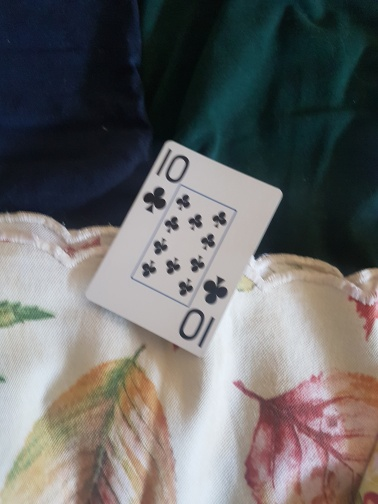ten: (86, 139, 284, 352)
